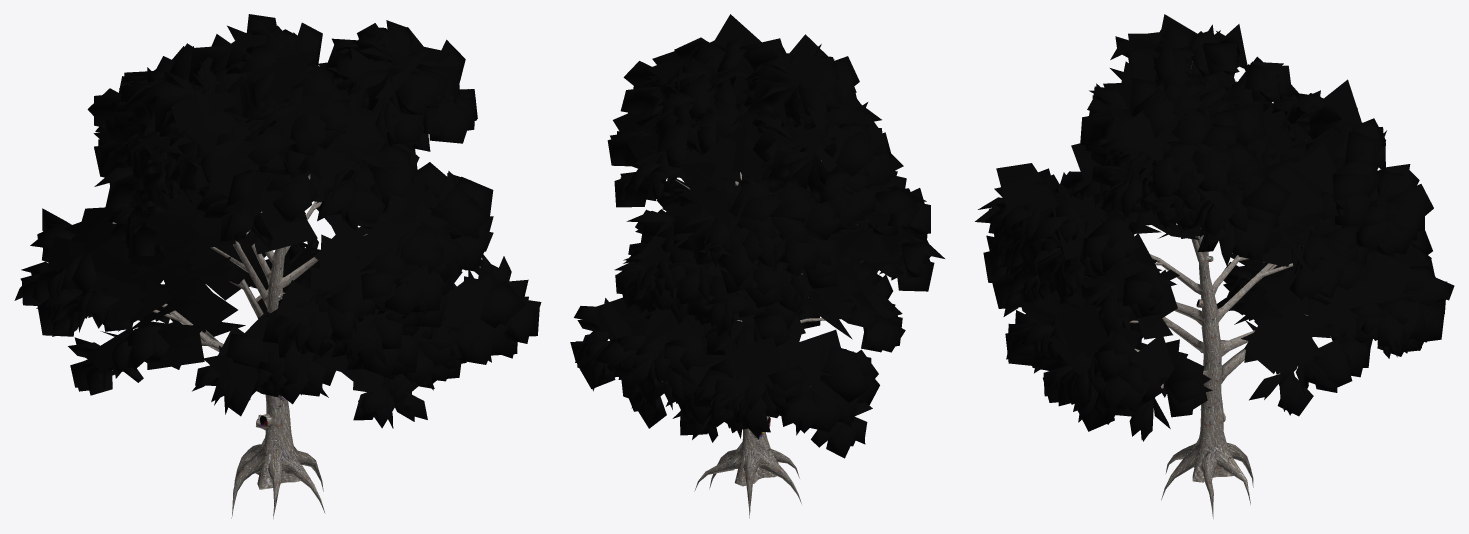
File: Arvore3.fbx
3 views of the same model, side by side, from view 1: azimuth 30°, elevation 25°; view 2: azimuth 150°, elevation 25°; view 3: azimuth 270°, elevation 25° (orthographic). The views are drawn at different scales.
Visible parts, largest first — view 1: LOD0; view 2: LOD0; view 3: LOD0.
Part boxes in pixels (<box>): LOD0: <box>14,14,541,518</box>; LOD0: <box>570,14,944,518</box>; LOD0: <box>975,14,1454,518</box>.
Bounding box in the file's own units: 57.26 × 72.2 × 68.03.
